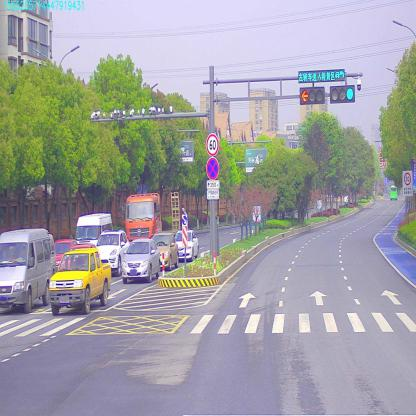traffic-light: (298, 70, 346, 82), (330, 83, 354, 106), (300, 89, 324, 109)
